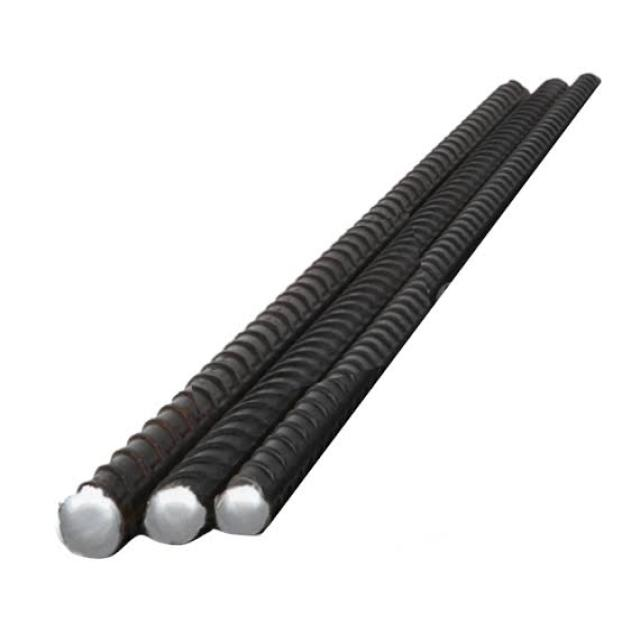Rebar: (56, 488, 124, 562), (136, 488, 208, 548), (219, 476, 282, 544)
